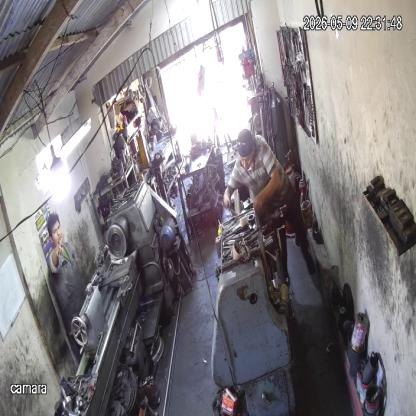sin_lentes: (235, 151, 253, 166), (49, 222, 62, 236)
